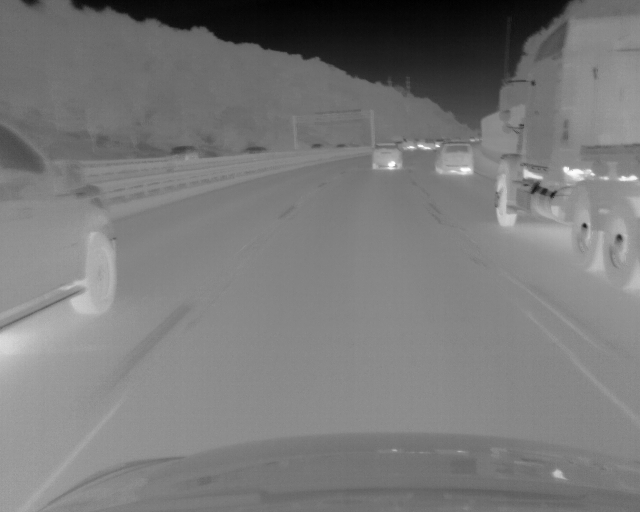car: (491, 17, 640, 294), (1, 121, 120, 335), (434, 143, 474, 177), (372, 143, 402, 170), (168, 146, 199, 160), (243, 145, 266, 154), (402, 139, 417, 152), (418, 138, 433, 151), (311, 143, 323, 149)
